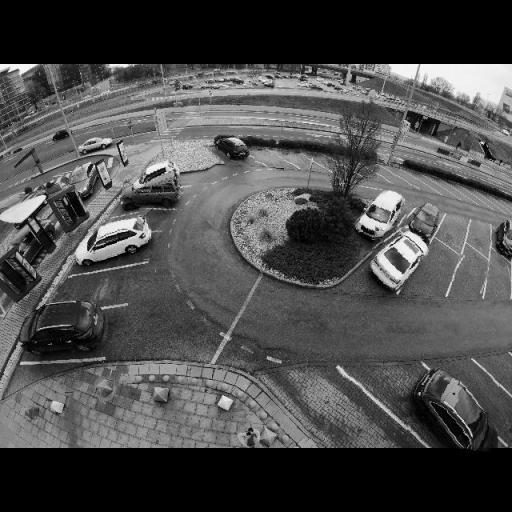busy: (408, 363, 496, 450), (368, 226, 430, 291), (27, 302, 103, 354), (70, 221, 152, 264), (354, 190, 408, 240), (121, 179, 183, 211), (130, 160, 180, 187), (410, 206, 440, 237), (217, 137, 252, 161), (75, 137, 115, 154), (494, 218, 512, 255), (253, 76, 275, 89)
free: (299, 371, 367, 445), (458, 370, 500, 404), (453, 256, 488, 292), (419, 252, 455, 286), (136, 203, 171, 232), (72, 275, 114, 299), (486, 268, 512, 298), (467, 222, 495, 247), (282, 147, 308, 168), (254, 150, 278, 164), (319, 154, 340, 169), (443, 222, 463, 237), (381, 169, 397, 183), (429, 182, 443, 196), (407, 176, 422, 189)
